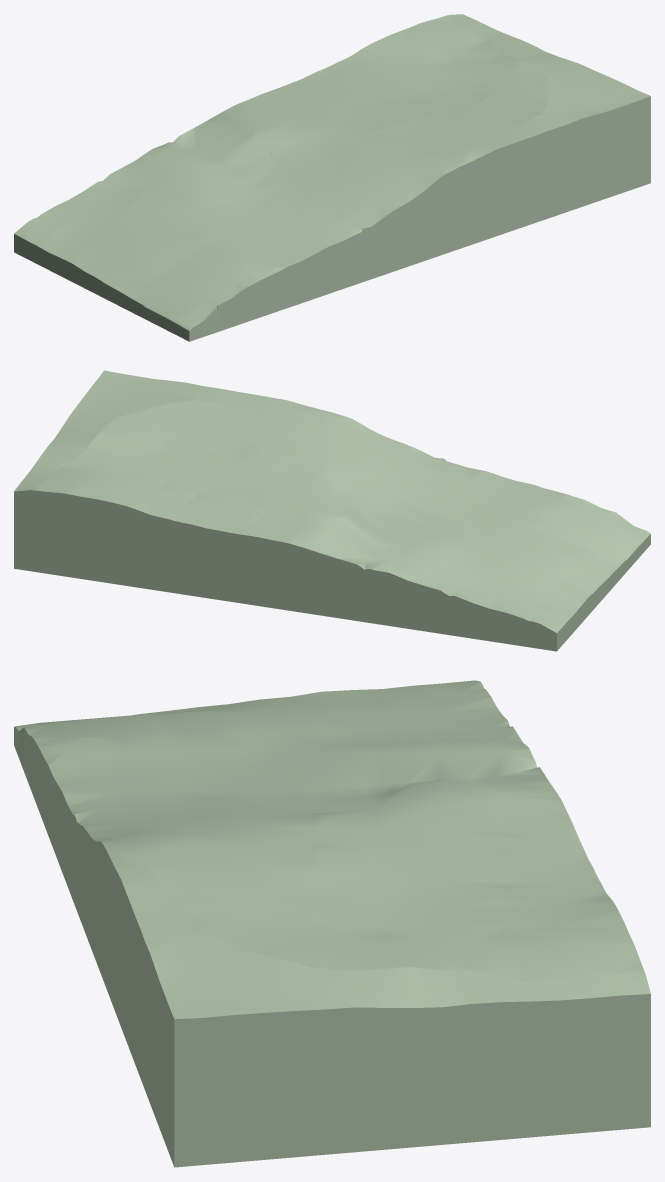
The picture shows the model from 3 angles, top to bottom: view 1: azimuth 30°, elevation 25°; view 2: azimuth 150°, elevation 25°; view 3: azimuth 270°, elevation 25°; orthographic projection. The views are drawn at different scales.
Visible parts, largest first — view 1: FD-L10-GND-EXISTING; view 2: FD-L10-GND-EXISTING; view 3: FD-L10-GND-EXISTING.
Part boxes in pixels (x1,y1,x2,y2): FD-L10-GND-EXISTING: [14, 14, 650, 341]; FD-L10-GND-EXISTING: [14, 370, 650, 651]; FD-L10-GND-EXISTING: [14, 680, 650, 1167].
Bounding box in the file's own units: 42.75 × 6.57 × 25.28.
